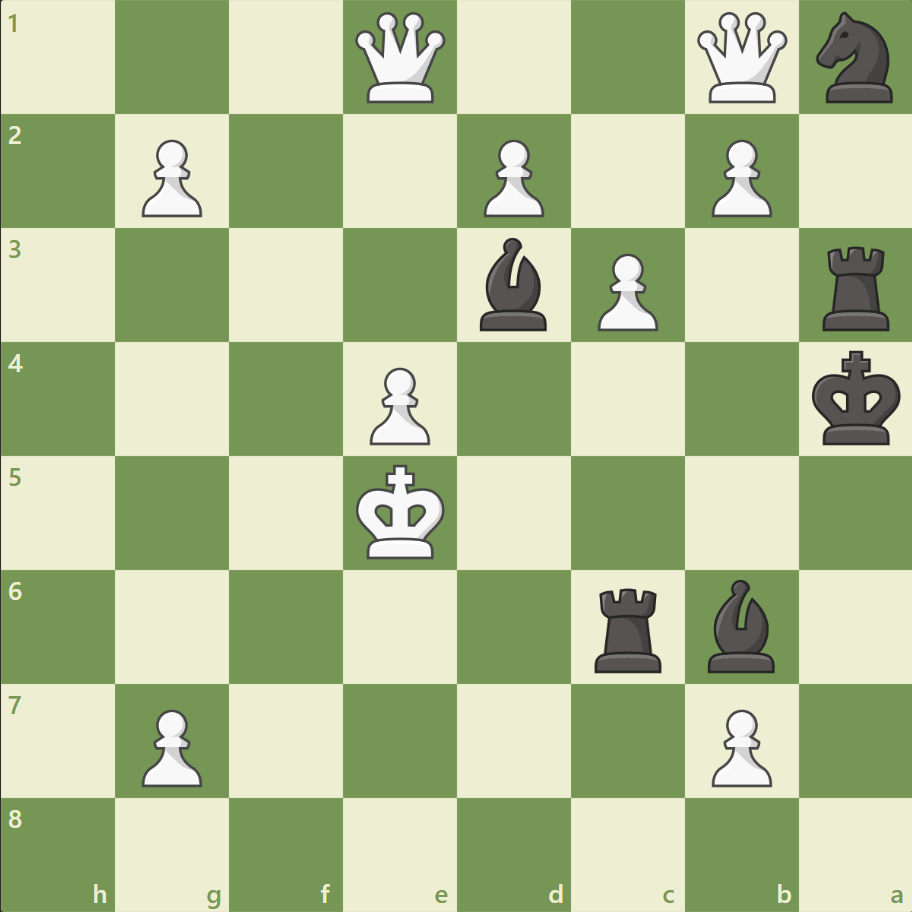K: (351, 458, 451, 566)
P: (701, 700, 776, 791), (133, 700, 208, 791), (701, 132, 776, 223), (474, 132, 549, 223), (133, 132, 208, 223), (361, 359, 435, 450), (588, 246, 662, 337)
Q: (691, 9, 790, 108), (351, 9, 450, 108)
b: (471, 233, 555, 336), (698, 574, 782, 676)
k: (806, 344, 906, 452)
n: (806, 7, 903, 110)
r: (587, 579, 670, 676), (814, 239, 897, 336)
